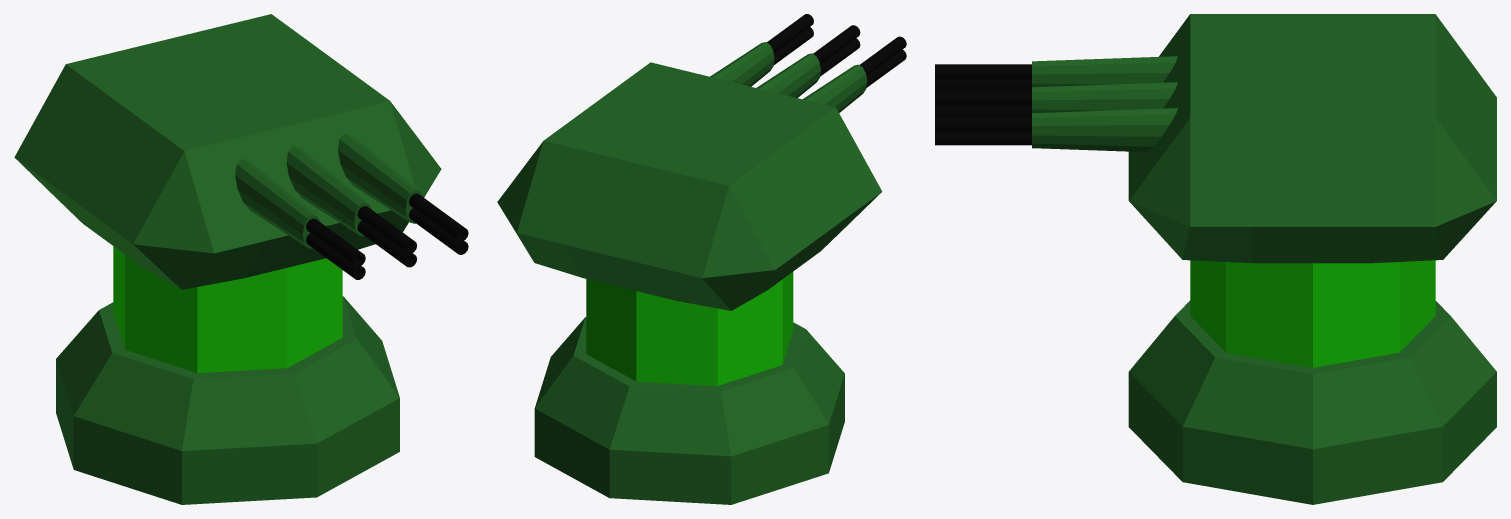
The model's file is Turret2_1.glb.
3 views of the same model, side by side, from view 1: azimuth 30°, elevation 25°; view 2: azimuth 150°, elevation 25°; view 3: azimuth 270°, elevation 25° (orthographic). The views are drawn at different scales.
Parts seen in each view (by area): view 1: TurretUpgradePath2_1; view 2: TurretUpgradePath2_1; view 3: TurretUpgradePath2_1.
Boxes of the visible parts, x1=… form: TurretUpgradePath2_1: x1=14, y1=14, x2=468, y2=504; TurretUpgradePath2_1: x1=497, y1=14, x2=906, y2=504; TurretUpgradePath2_1: x1=935, y1=14, x2=1496, y2=504.
Size of the model in its own units: 3 by 3.25 by 4.58.
